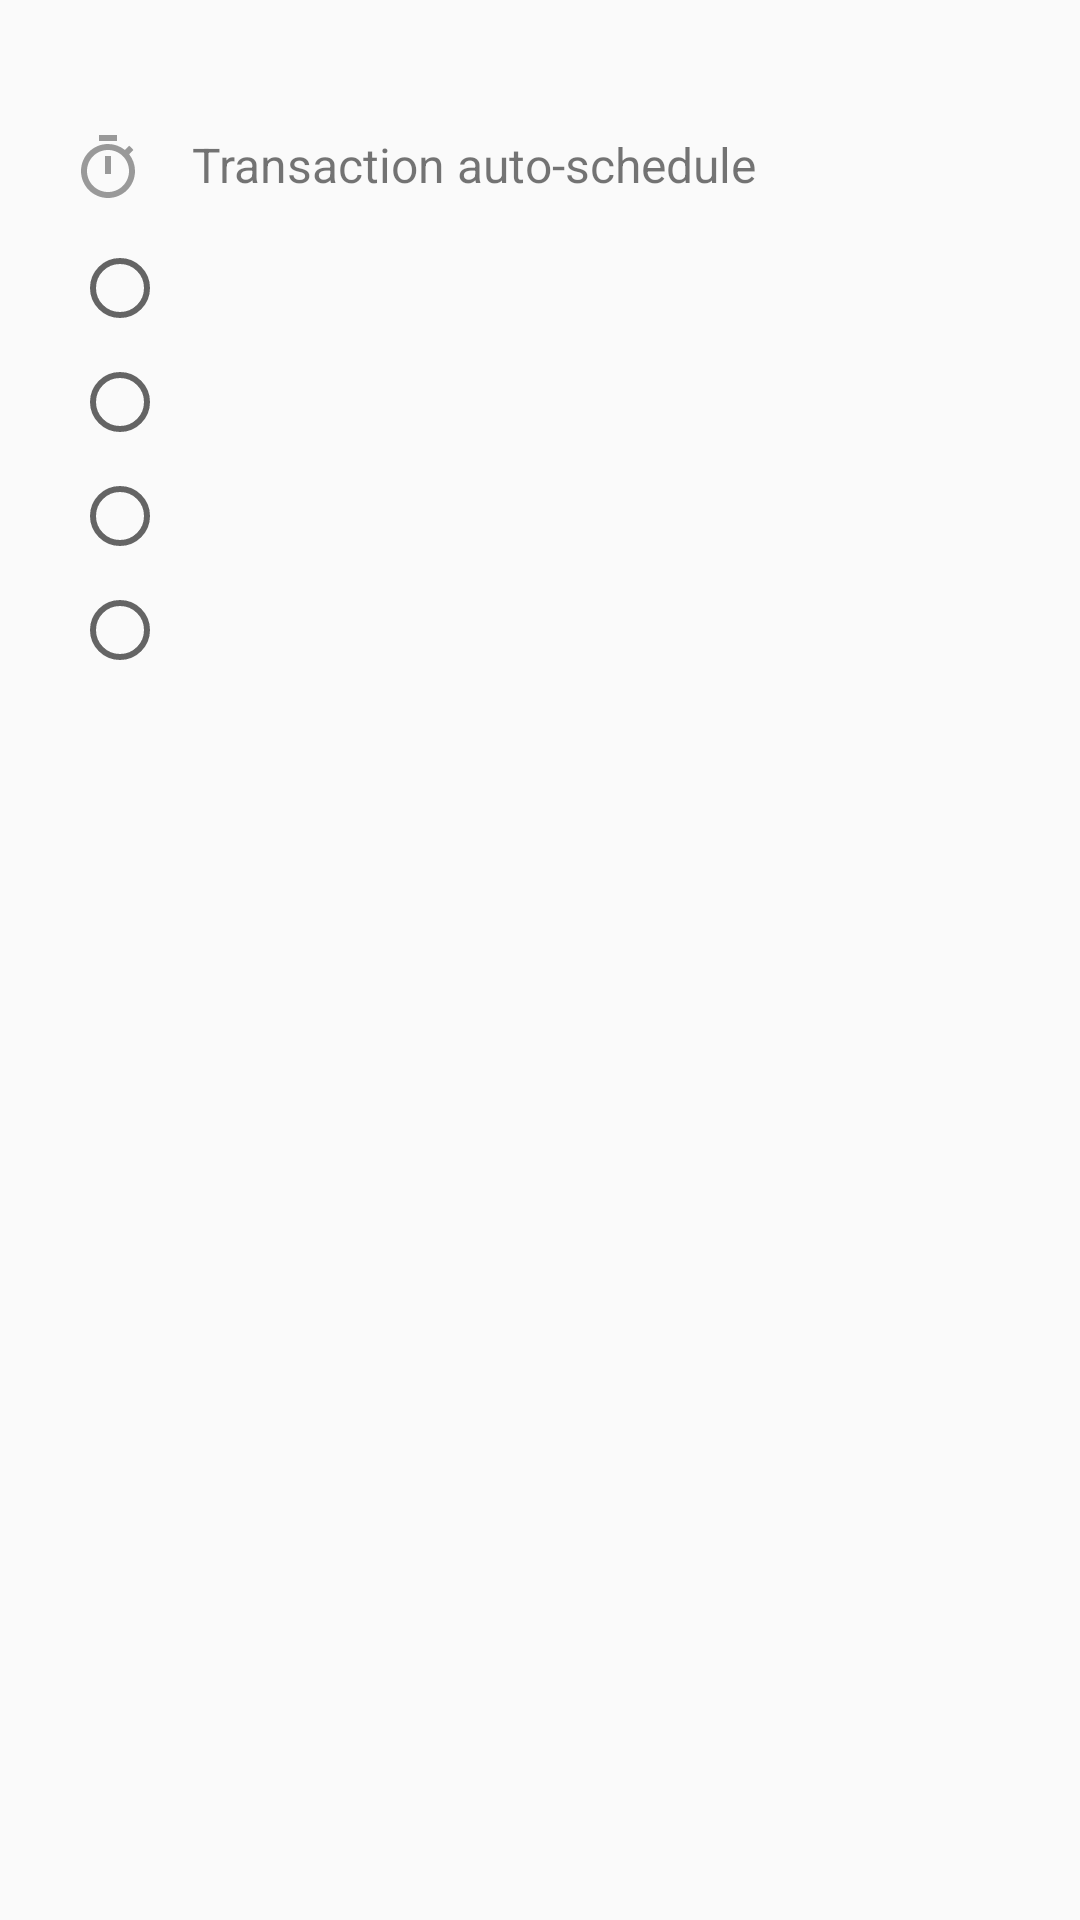

Icons on this 1080px x 1920px Android screen, each with the point to tap as (x=x, y=y):
timer: (x=108, y=166)
